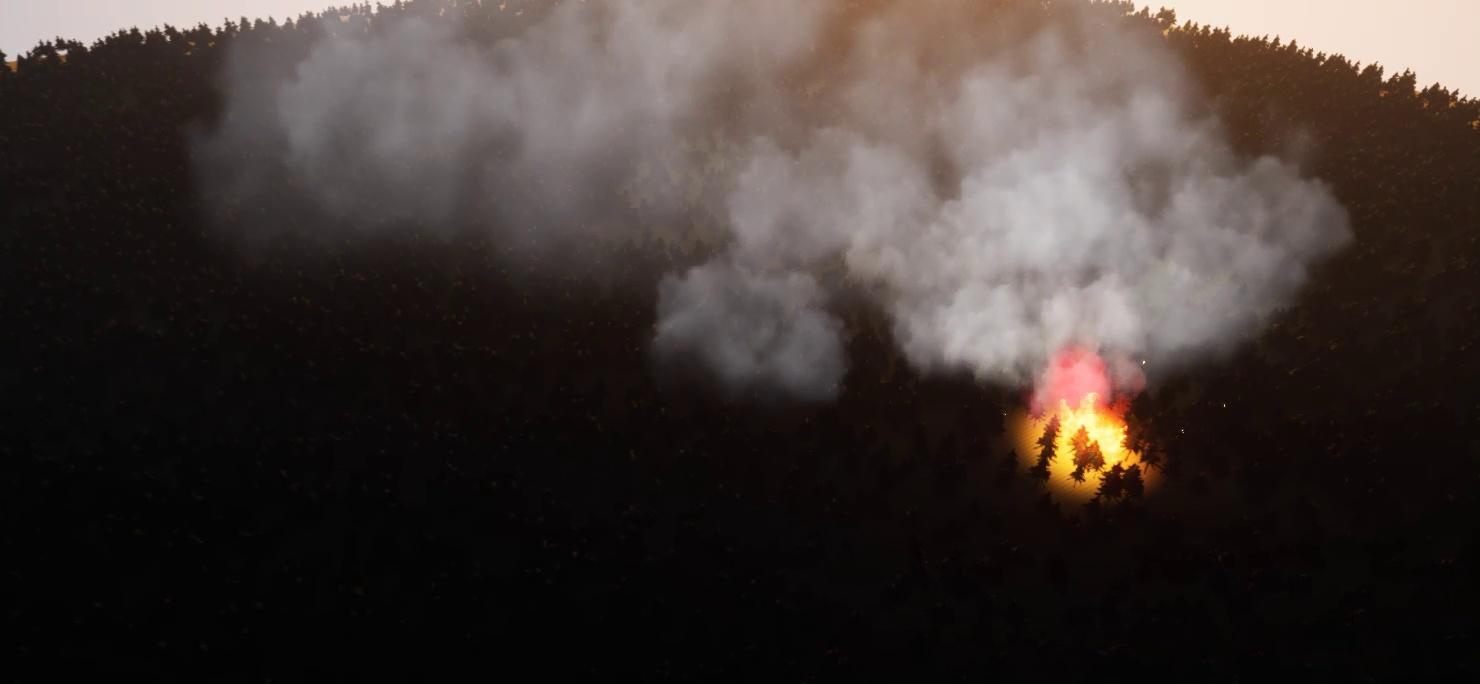fire: (1049, 396, 1146, 475)
smoke: (187, 0, 1361, 401)
